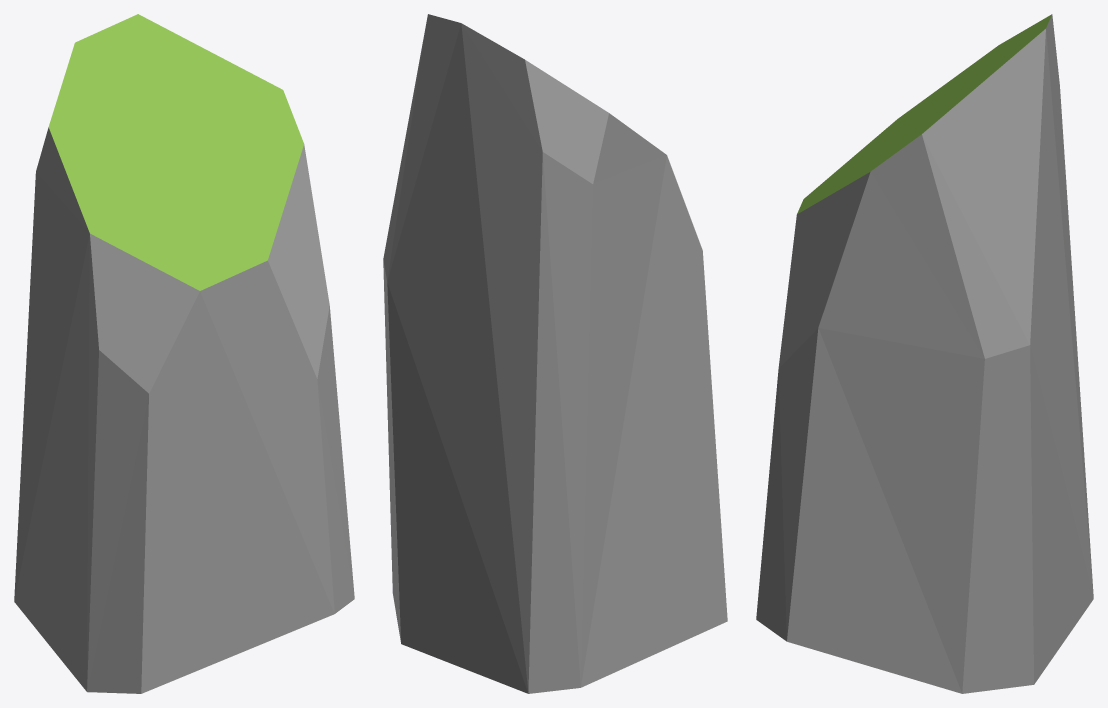
File: Rock2.fbx
3 views of the same model, side by side, from view 1: azimuth 30°, elevation 25°; view 2: azimuth 150°, elevation 25°; view 3: azimuth 270°, elevation 25° (orthographic). The views are drawn at different scales.
Parts seen in each view (by area): view 1: Rock2; view 2: Rock2; view 3: Rock2.
Part boxes in pixels (x1=…): Rock2: x1=14, y1=14, x2=354, y2=693; Rock2: x1=383, y1=14, x2=727, y2=693; Rock2: x1=756, y1=14, x2=1093, y2=693.
Bounding box in the file's own units: 0.7953 × 1.79 × 0.8744.
